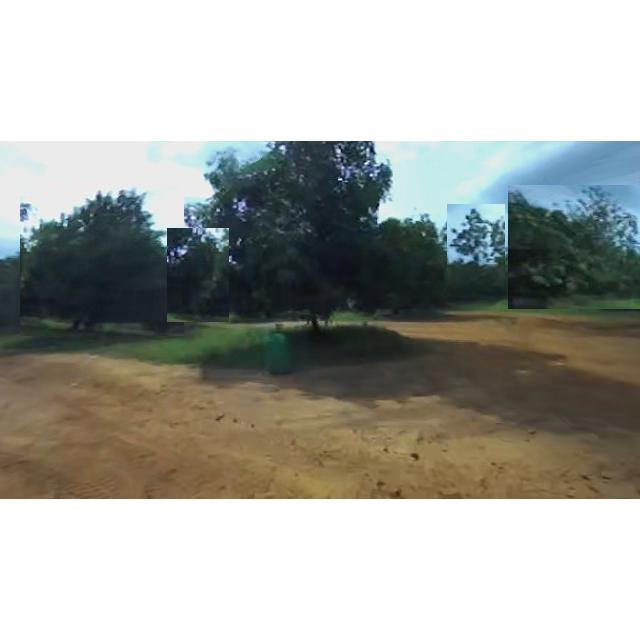direk: (204, 143, 458, 339), (20, 186, 184, 336), (508, 185, 640, 309), (167, 228, 229, 322), (447, 204, 505, 296)
